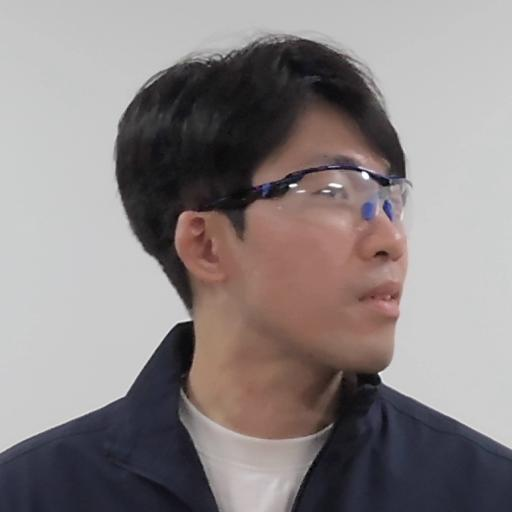glasses: (109, 30, 425, 390)
